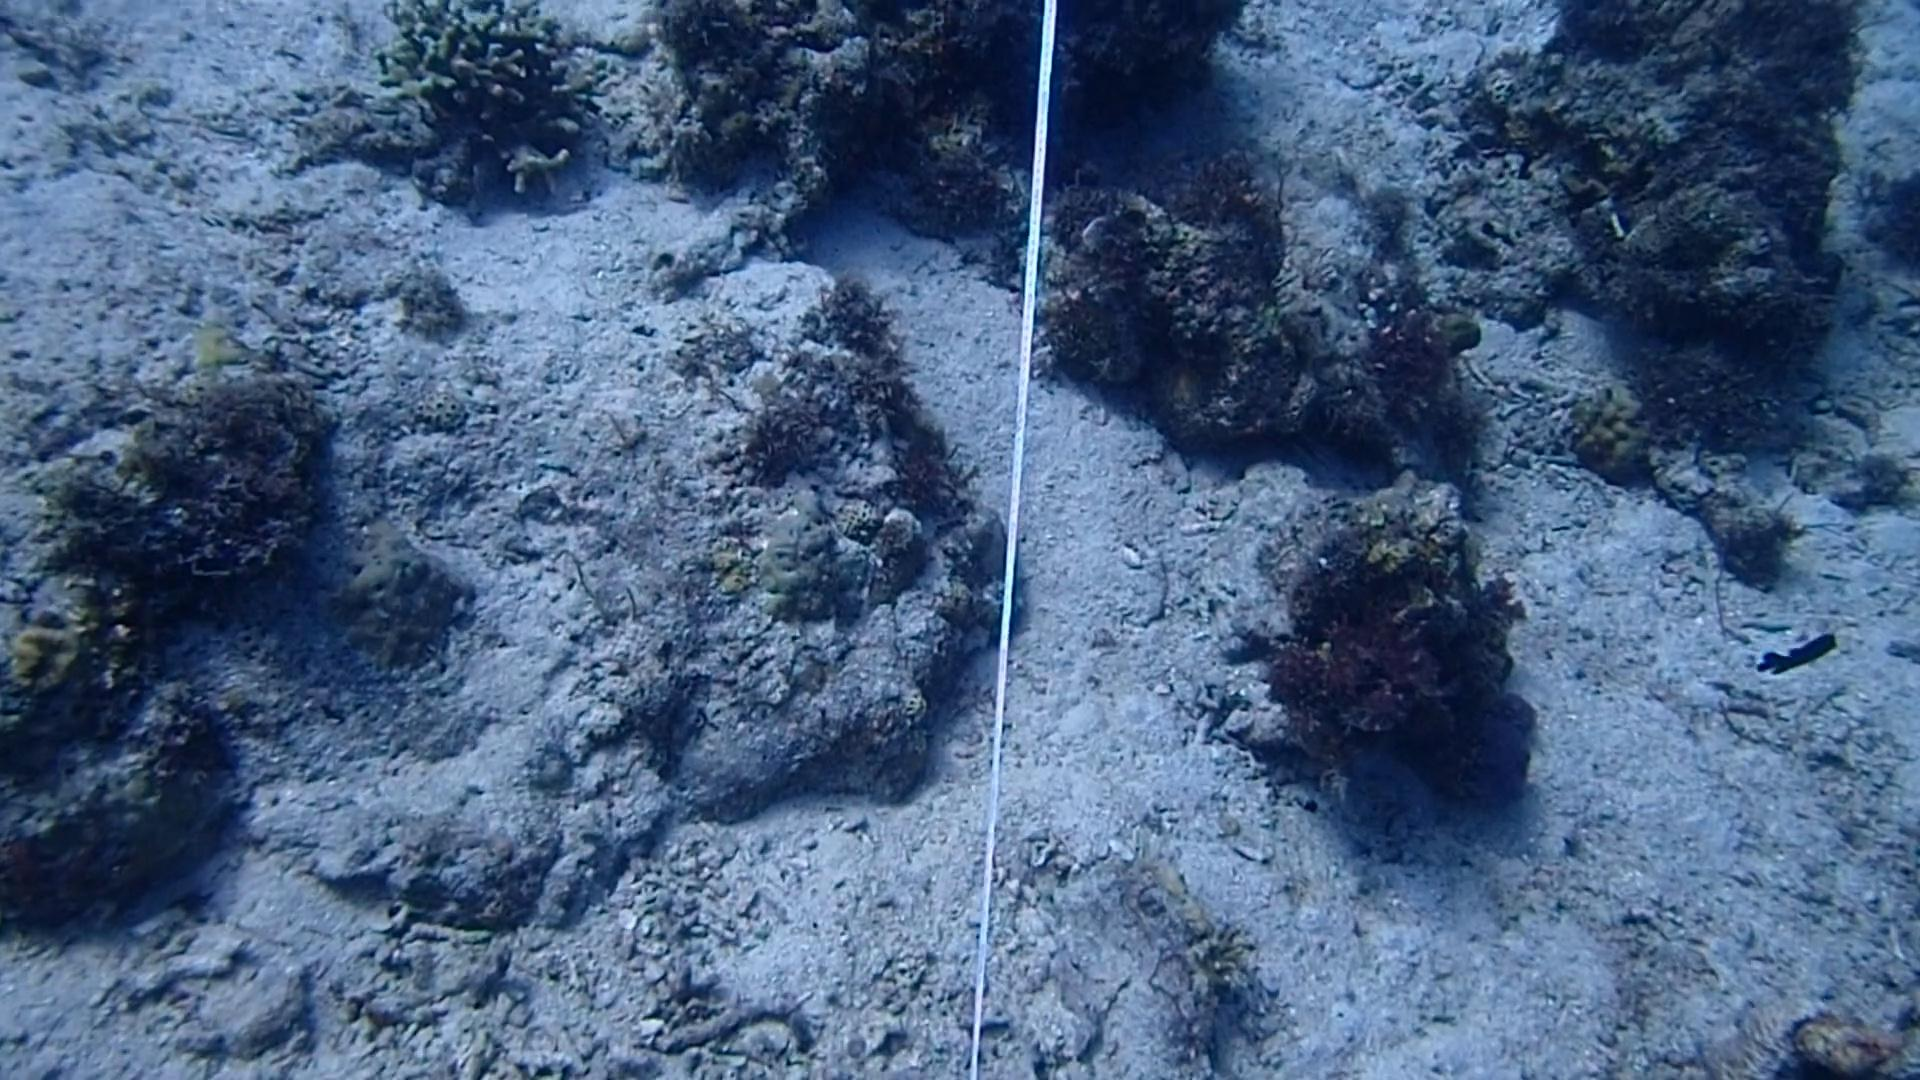Dark Fish: (1747, 616, 1841, 690)
